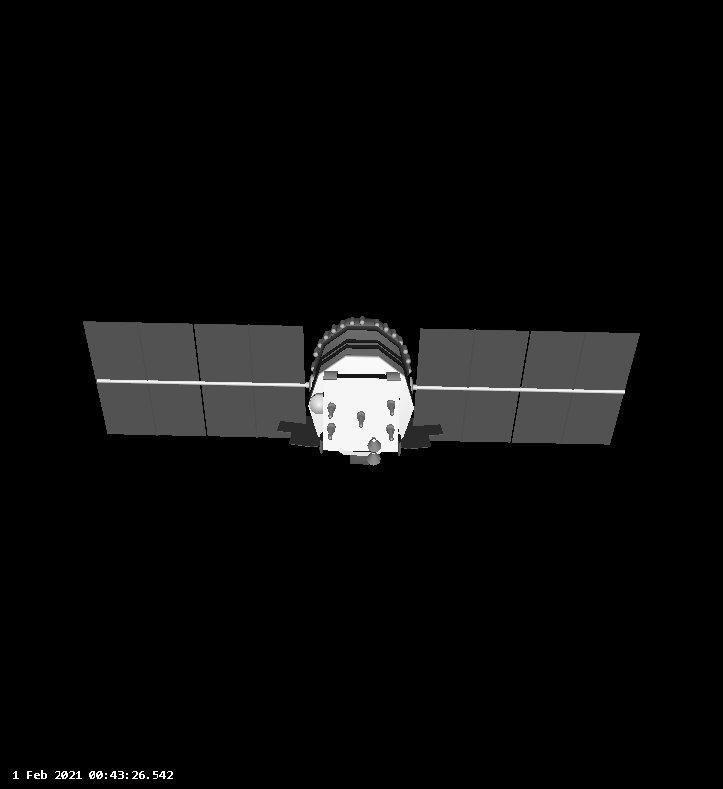body: (306, 314, 416, 458)
solar: (510, 329, 644, 447), (81, 319, 209, 438), (407, 326, 532, 445), (192, 321, 309, 441)
thruster: (365, 436, 384, 454), (364, 451, 383, 467)
